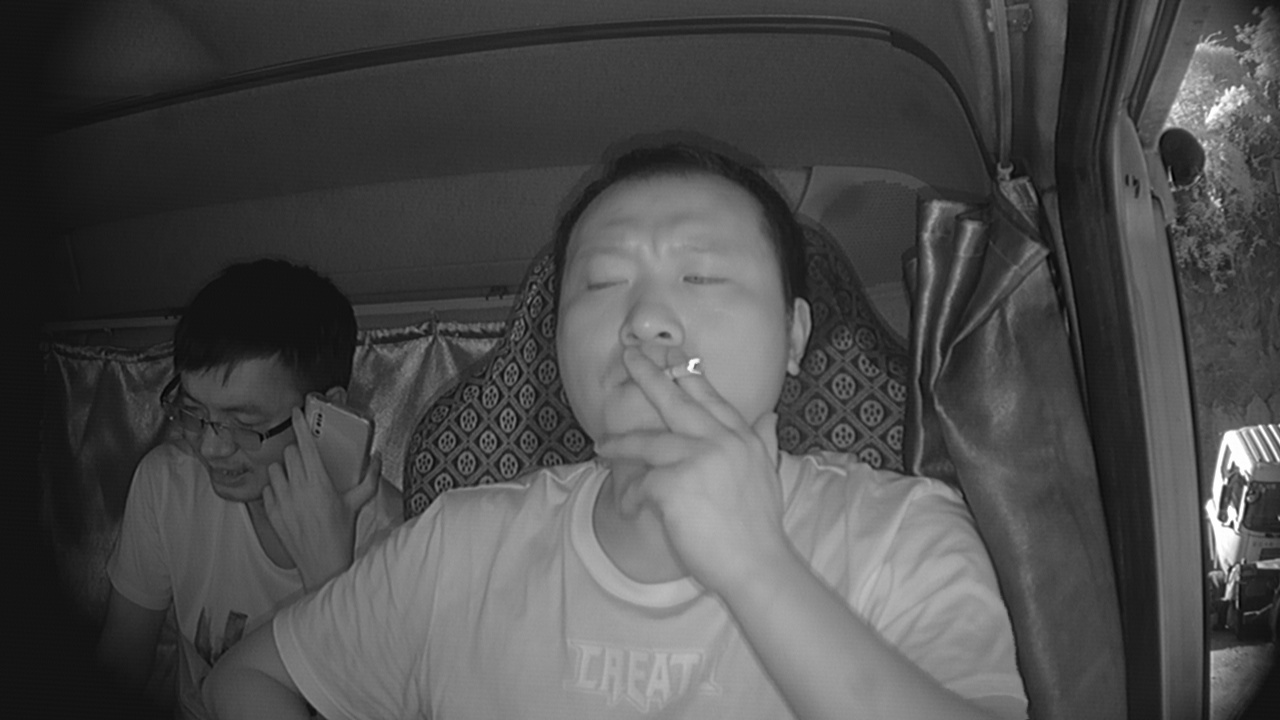hand: (600, 346, 787, 555)
